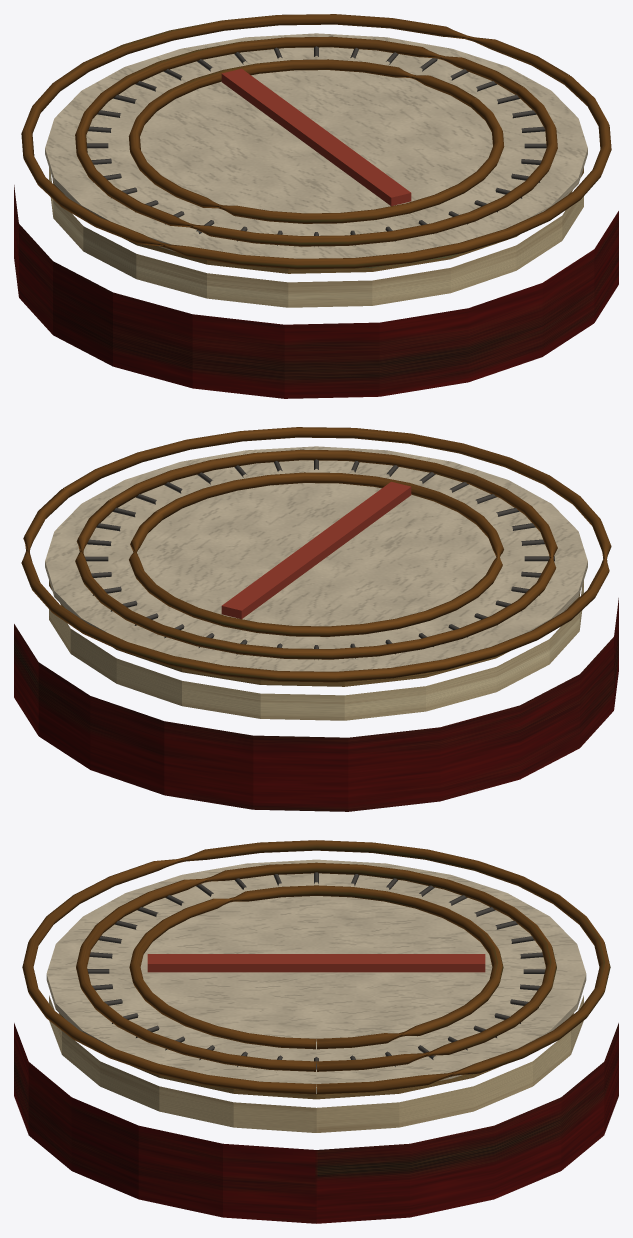
File: luopan.glb
3 renders of one model, top to bottom at view 1: azimuth 30°, elevation 25°; view 2: azimuth 150°, elevation 25°; view 3: azimuth 270°, elevation 25°, orthographic.
Visible parts, largest first — view 1: Art_Parchment, Case, Art_OxidizedBrass, Dial, Art_CinnabarBinding, Art_SootIron, Glass; view 2: Art_Parchment, Case, Art_OxidizedBrass, Dial, Art_CinnabarBinding, Art_SootIron, Glass; view 3: Art_Parchment, Case, Art_OxidizedBrass, Dial, Art_CinnabarBinding, Art_SootIron, Glass.
Part boxes in pixels (bbox=[...]): Art_Parchment: bbox=[45, 33, 587, 258]; Case: bbox=[14, 185, 618, 398]; Art_OxidizedBrass: bbox=[21, 14, 611, 269]; Dial: bbox=[49, 168, 583, 307]; Art_CinnabarBinding: bbox=[221, 68, 411, 206]; Art_SootIron: bbox=[87, 46, 546, 246]; Glass: bbox=[52, 168, 583, 273]; Art_Parchment: bbox=[45, 446, 587, 671]; Case: bbox=[14, 598, 618, 811]; Art_OxidizedBrass: bbox=[21, 427, 611, 682]; Dial: bbox=[49, 581, 583, 720]; Art_CinnabarBinding: bbox=[221, 481, 411, 619]; Art_SootIron: bbox=[85, 459, 554, 659]; Glass: bbox=[49, 581, 580, 686]; Art_Parchment: bbox=[46, 859, 586, 1093]; Case: bbox=[14, 1023, 618, 1223]; Art_OxidizedBrass: bbox=[22, 840, 610, 1094]; Dial: bbox=[49, 995, 583, 1132]; Art_CinnabarBinding: bbox=[147, 954, 485, 972]; Art_SootIron: bbox=[87, 872, 545, 1069]; Glass: bbox=[59, 1013, 573, 1099].
Size of the model in its own units: 0.26 by 0.065 by 0.26.
8 materials, 5 textured.
